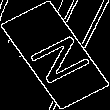N_NE: (17, 25, 93, 85)
